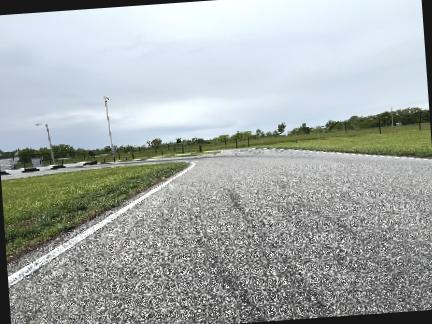Grass: (1, 162, 188, 260), (265, 130, 431, 158), (122, 151, 221, 161)
Lane: (9, 149, 431, 323)
